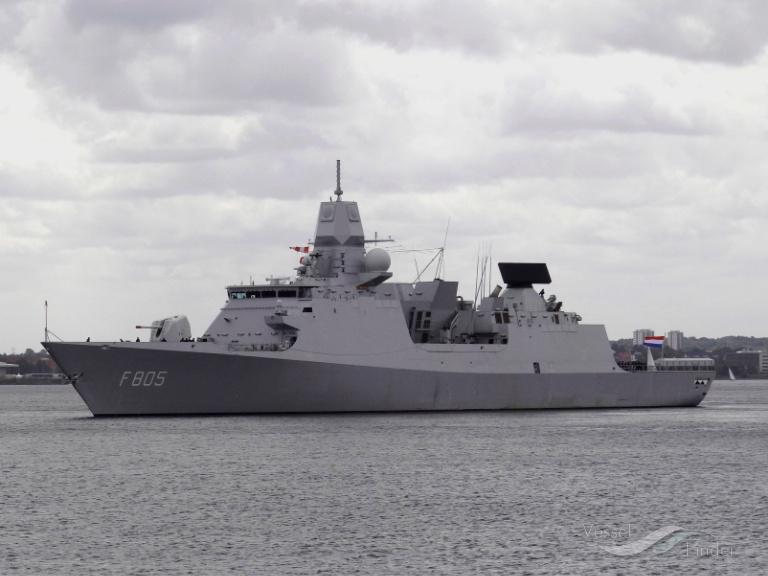OCR: (112, 364, 171, 392)
